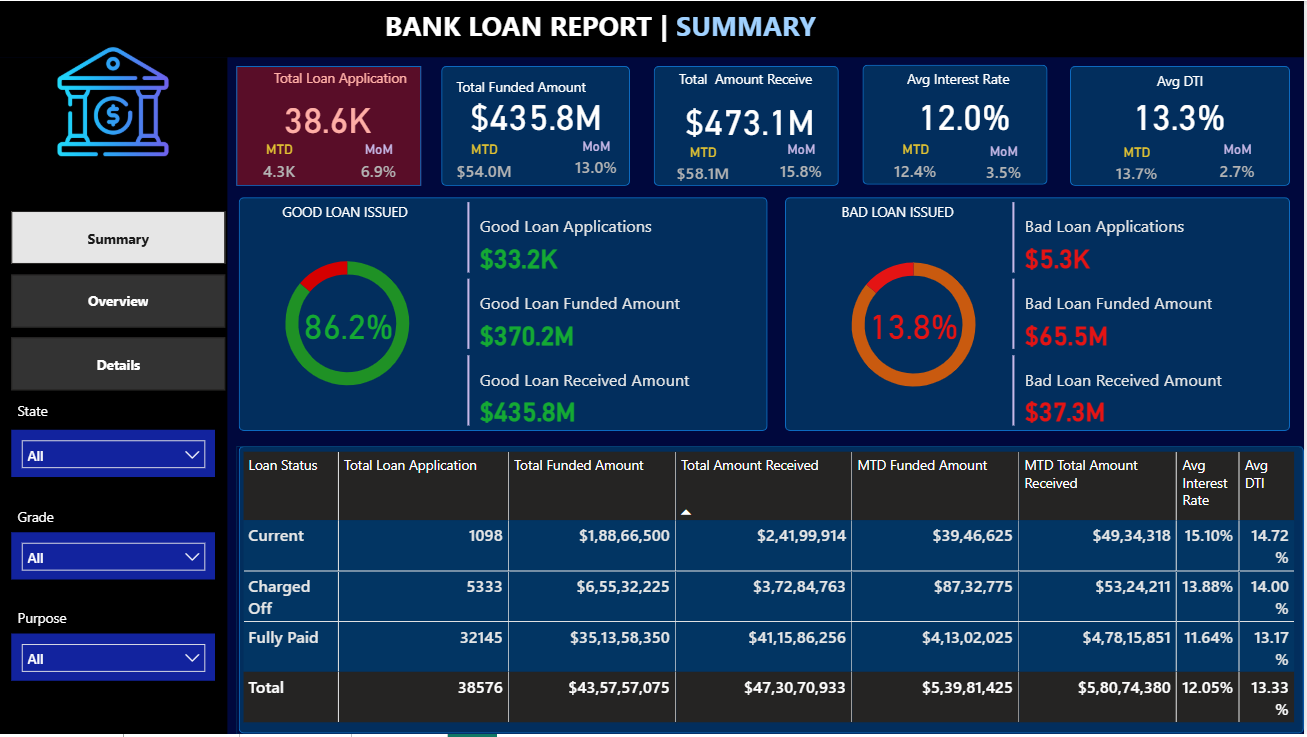

The dashboard page shown, as its layout file describes it:
{"tool":"tableau","page":{"name":"SUMMARY","canvas":[1600,900],"ordinal":2},"visuals":[{"type":"image","param":"Image/Tableau Background 1.jpg","box":[8,8,1584,884]},{"type":"text","box":[511,21,660,50]},{"type":"image","param":"Image/ChatGPT Image Nov 18, 2025, 10_52_47 PM.png","box":[32,77,213,202]},{"type":"worksheet","title":"Avg DTI","mark":"Automatic","box":[1325,95,241,84]},{"type":"worksheet","title":"Total Funded Amount","mark":"Automatic","box":[524,96,249,91]},{"type":"worksheet","title":"Total Amount Received","mark":"Automatic","box":[788,96,253,86]},{"type":"worksheet","title":"Avg Interest Rate","mark":"Automatic","box":[1067,96,222,85]},{"type":"worksheet","title":"total Loan Application","mark":"Automatic","box":[267,98,246,85]},{"type":"text","box":[292,184,67,25]},{"type":"text","box":[399,184,67,25]},{"type":"text","box":[561,184,67,25]},{"type":"text","box":[1076,184,67,25]},{"type":"text","box":[1212,184,67,25]},{"type":"text","box":[1339,184,67,25]},{"type":"text","box":[1485,184,67,25]},{"type":"text","box":[932,185,67,25]},{"type":"text","box":[667,186,67,25]},{"type":"text","box":[817,186,67,25]},{"type":"worksheet","title":"MTD Total Funded Amount","mark":"Automatic","box":[551,201,95,36]},{"type":"worksheet","title":"MoM Total Amount Received","mark":"Automatic","box":[926,205,79,32]},{"type":"worksheet","title":"MTD Avg DTI","mark":"Automatic","box":[1336,205,84,34]},{"type":"worksheet","title":"MTD Total Loan Applications","mark":"Automatic","box":[303,206,48,34]},{"type":"worksheet","title":"MoM Total Funded Amount","mark":"Automatic","box":[671,206,66,29]},{"type":"worksheet","title":"MoM Avg DTI","mark":"Automatic","box":[1494,206,60,34]},{"type":"worksheet","title":"MTD Total  Amount Received","mark":"Automatic","box":[808,207,86,35]},{"type":"worksheet","title":"MTD Avg Int Rate","mark":"Automatic","box":[1075,211,71,29]},{"type":"worksheet","title":"MoM Avg Int Rate","mark":"Automatic","box":[1211,211,76,30]},{"type":"worksheet","title":"MoM  Loan Applications","mark":"Automatic","box":[405,212,59,23]},{"type":"worksheet","title":"Bad Loan Issued","mark":"Pie","rows":["Calculation_1475210361257676801","Calculation_1475210361257676801"],"box":[929,268,280,326]},{"type":"worksheet","title":"Good Loan Issued","mark":"Pie","rows":["Calculation_1475210361257676801","Calculation_1475210361257676801"],"box":[264,269,302,329]},{"type":"dashboard-object","box":[38,273,199,37]},{"type":"worksheet","title":"Bad Loan Applications ","mark":"Automatic","box":[1209,282,350,77]},{"type":"worksheet","title":"Good Loan Applications","mark":"Automatic","box":[573,283,335,97]},{"type":"dashboard-object","box":[38,323,199,37]},{"type":"dashboard-object","box":[38,370,199,37]},{"type":"worksheet","title":"Bad Loan Total Funded Amount","mark":"Automatic","box":[1213,373,350,85]},{"type":"worksheet","title":"Good Loan Funded Amount","mark":"Automatic","box":[573,385,330,91]},{"type":"worksheet","title":"Bad Loan %","mark":"Automatic","box":[1018,422,109,53]},{"type":"worksheet","title":"Good Loan Application %","mark":"Automatic","box":[361,428,118,39]},{"type":"worksheet","title":"Good Loan Amount Received","mark":"Automatic","box":[574,473,332,103]},{"type":"worksheet","title":"Bad Loan Amount Received ","mark":"Automatic","box":[1215,486,350,85]},{"type":"filter","title":"Good Loan Issued","param":"[federated.0aabd9g1kkgmq71fx79v50xedflh].[none:purpose:nk]","box":[35,564,207,50]},{"type":"worksheet","title":"LOAN STATUS","mark":"Automatic","rows":["loan_status"],"box":[266,614,1300,265]},{"type":"filter","title":"Good Loan Issued","param":"[federated.0aabd9g1kkgmq71fx79v50xedflh].[none:grade:nk]","box":[35,634,209,47]},{"type":"filter","title":"Good Loan Issued","param":"[federated.0aabd9g1kkgmq71fx79v50xedflh].[none:verification_status:nk]","box":[33,711,210,50]}]}

Visuals, with their boxes in screenshot pixels (x1, y1, x2, y2), scaled from the page's 1600x900 canvas onto the 1307x737 screenshot:
image: (7, 7, 1300, 730)
text: (417, 17, 957, 58)
image: (26, 63, 200, 228)
"Avg DTI" worksheet: (1082, 78, 1279, 147)
"Total Funded Amount" worksheet: (428, 79, 631, 153)
"Total Amount Received" worksheet: (644, 79, 850, 149)
"Avg Interest Rate" worksheet: (872, 79, 1053, 148)
"total Loan Application" worksheet: (218, 80, 419, 150)
text: (239, 151, 293, 171)
text: (326, 151, 381, 171)
text: (458, 151, 513, 171)
text: (879, 151, 934, 171)
text: (990, 151, 1045, 171)
text: (1094, 151, 1149, 171)
text: (1213, 151, 1268, 171)
text: (761, 151, 816, 172)
text: (545, 152, 600, 173)
text: (667, 152, 722, 173)
"MTD Total Funded Amount" worksheet: (450, 165, 528, 194)
"MoM Total Amount Received" worksheet: (756, 168, 821, 194)
"MTD Avg DTI" worksheet: (1091, 168, 1160, 196)
"MTD Total Loan Applications" worksheet: (248, 169, 287, 197)
"MoM Total Funded Amount" worksheet: (548, 169, 602, 192)
"MoM Avg DTI" worksheet: (1220, 169, 1269, 197)
"MTD Total  Amount Received" worksheet: (660, 170, 730, 198)
"MTD Avg Int Rate" worksheet: (878, 173, 936, 197)
"MoM Avg Int Rate" worksheet: (989, 173, 1051, 197)
"MoM  Loan Applications" worksheet: (331, 174, 379, 192)
"Bad Loan Issued" worksheet (Pie marks): (759, 219, 988, 486)
"Good Loan Issued" worksheet (Pie marks): (216, 220, 462, 490)
dashboard-object: (31, 224, 194, 254)
"Bad Loan Applications " worksheet: (988, 231, 1274, 294)
"Good Loan Applications" worksheet: (468, 232, 742, 311)
dashboard-object: (31, 265, 194, 295)
dashboard-object: (31, 303, 194, 333)
"Bad Loan Total Funded Amount" worksheet: (991, 305, 1277, 375)
"Good Loan Funded Amount" worksheet: (468, 315, 738, 390)
"Bad Loan %" worksheet: (832, 346, 921, 389)
"Good Loan Application %" worksheet: (295, 350, 391, 382)
"Good Loan Amount Received" worksheet: (469, 387, 740, 472)
"Bad Loan Amount Received " worksheet: (993, 398, 1278, 468)
"Good Loan Issued" filter: (29, 462, 198, 503)
"LOAN STATUS" worksheet: (217, 503, 1279, 720)
"Good Loan Issued" filter: (29, 519, 199, 558)
"Good Loan Issued" filter: (27, 582, 199, 623)
